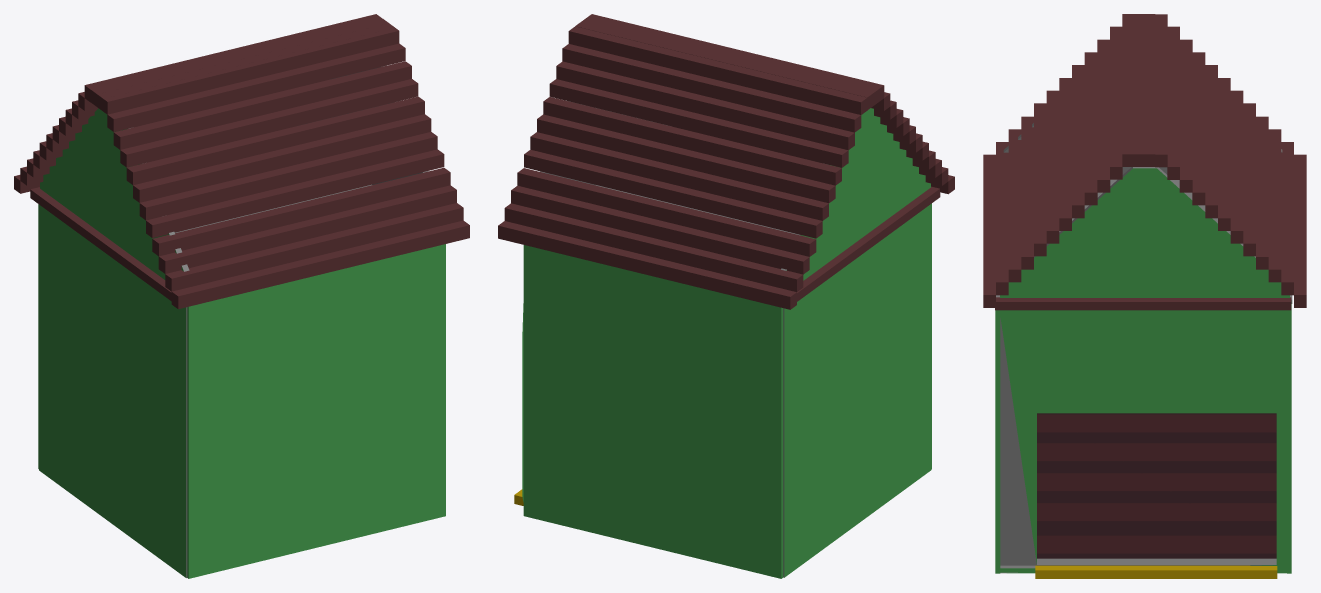
The model's file is cochera.obj.
3 views of the same model, side by side, from view 1: azimuth 30°, elevation 25°; view 2: azimuth 150°, elevation 25°; view 3: azimuth 270°, elevation 25° (orthographic).
Parts seen in each view (by area): view 1: pasted__group14_pasted__group12_pasted__pasted__group11_pasted__, pasted__pasted__pasted__pCube1 pasted__pasted__group pasted__gro, pasted__pasted__pCube1 pasted__group group24, pasted__pasted__pasted__pasted__pasted__pCube1 pasted__pasted__p, pCube6; view 2: pasted__group14_pasted__group12_pasted__pasted__group11_pasted__, pasted__pasted__pasted__pCube1 pasted__pasted__group pasted__gro, pasted__pasted__pCube1 pasted__group group24, pasted__pasted__pasted__pasted__pasted__pCube1 pasted__pasted__p, pCube6; view 3: pasted__group14_pasted__group12_pasted__pasted__group11_pasted__, polySurface4 group27_pasted__group24_pasted__pasted__group_paste, group27_pasted__group24_pasted__pasted__group_pasted__pasted__pa, pasted__pasted__pasted__pasted__pCube1 pasted__pasted__pasted__g, pasted__pCube6 group37, pCube11, pasted__pasted__pasted__pCube1 pasted__pasted__group pasted__gro.
Boxes of the visible parts, x1=… form: pasted__group14_pasted__group12_pasted__pasted__group11_pasted__: x1=14, y1=14, x2=469, y2=309; pasted__pasted__pasted__pCube1 pasted__pasted__group pasted__gro: x1=38, y1=204, x2=445, y2=578; pasted__pasted__pCube1 pasted__group group24: x1=39, y1=204, x2=187, y2=577; pasted__pasted__pasted__pasted__pasted__pCube1 pasted__pasted__p: x1=40, y1=108, x2=189, y2=279; pCube6: x1=30, y1=187, x2=171, y2=301; pasted__group14_pasted__group12_pasted__pasted__group11_pasted__: x1=498, y1=14, x2=954, y2=309; pasted__pasted__pasted__pCube1 pasted__pasted__group pasted__gro: x1=523, y1=203, x2=931, y2=578; pasted__pasted__pCube1 pasted__group group24: x1=783, y1=204, x2=931, y2=577; pasted__pasted__pasted__pasted__pasted__pCube1 pasted__pasted__p: x1=781, y1=108, x2=930, y2=280; pCube6: x1=797, y1=186, x2=940, y2=301; pasted__group14_pasted__group12_pasted__pasted__group11_pasted__: x1=983, y1=14, x2=1306, y2=307; polySurface4 group27_pasted__group24_pasted__pasted__group_paste: x1=999, y1=310, x2=1287, y2=573; group27_pasted__group24_pasted__pasted__group_pasted__pasted__pa: x1=1037, y1=413, x2=1276, y2=558; pasted__pasted__pasted__pasted__pCube1 pasted__pasted__pasted__g: x1=1000, y1=167, x2=1289, y2=297; pasted__pCube6 group37: x1=995, y1=297, x2=1291, y2=310; pCube11: x1=1035, y1=565, x2=1277, y2=578; pasted__pasted__pasted__pCube1 pasted__pasted__group pasted__gro: x1=995, y1=304, x2=1291, y2=573.
Bounding box in the file's own units: 8.84 × 12.56 × 8.61.
Materials: 5 (4 with a texture image).
